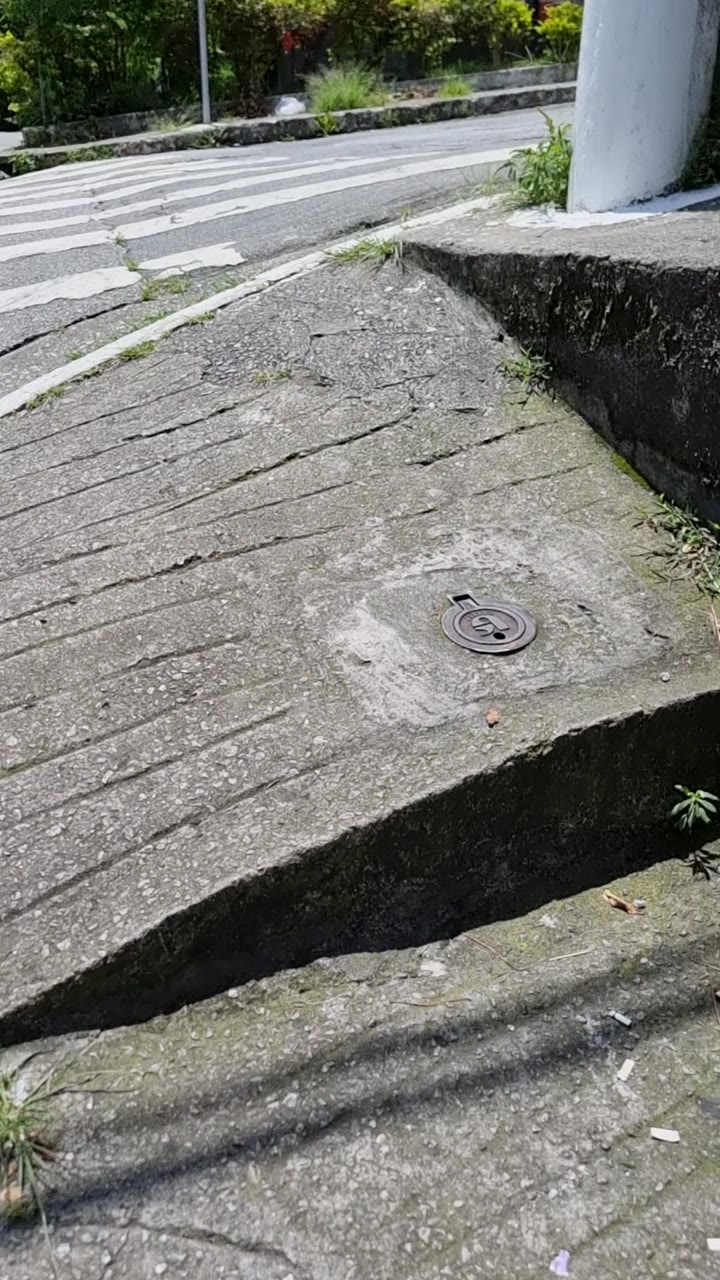desnivel: (0, 678, 720, 1024), (396, 243, 720, 486)
obstaculo: (576, 0, 648, 218)
